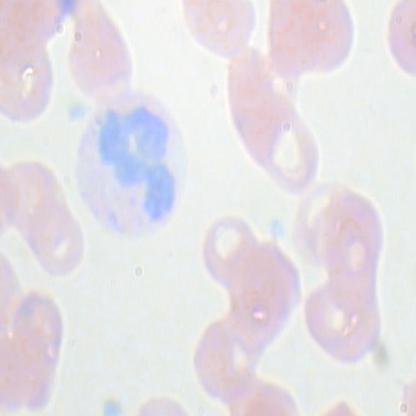Platelets: (64, 98, 90, 126), (266, 216, 292, 244), (98, 398, 126, 415)
RBC: (298, 278, 392, 372), (318, 186, 392, 296), (184, 311, 264, 406), (274, 1, 364, 85), (7, 292, 65, 415), (254, 108, 326, 199), (8, 194, 85, 278), (0, 161, 75, 247), (194, 212, 264, 296), (228, 268, 298, 352), (183, 1, 262, 71), (376, 0, 416, 98)
WBC: (70, 87, 188, 249)
